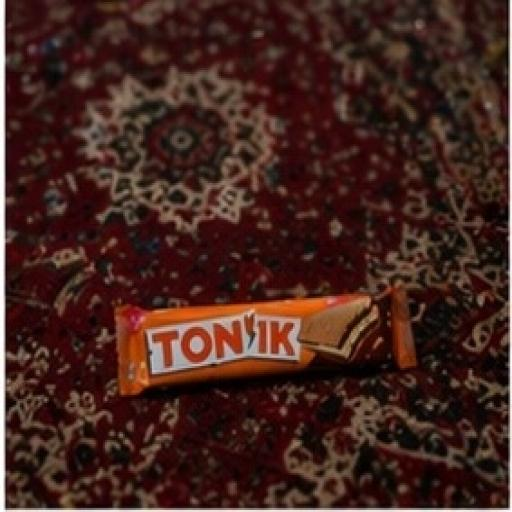tonik: (58, 253, 459, 456)
